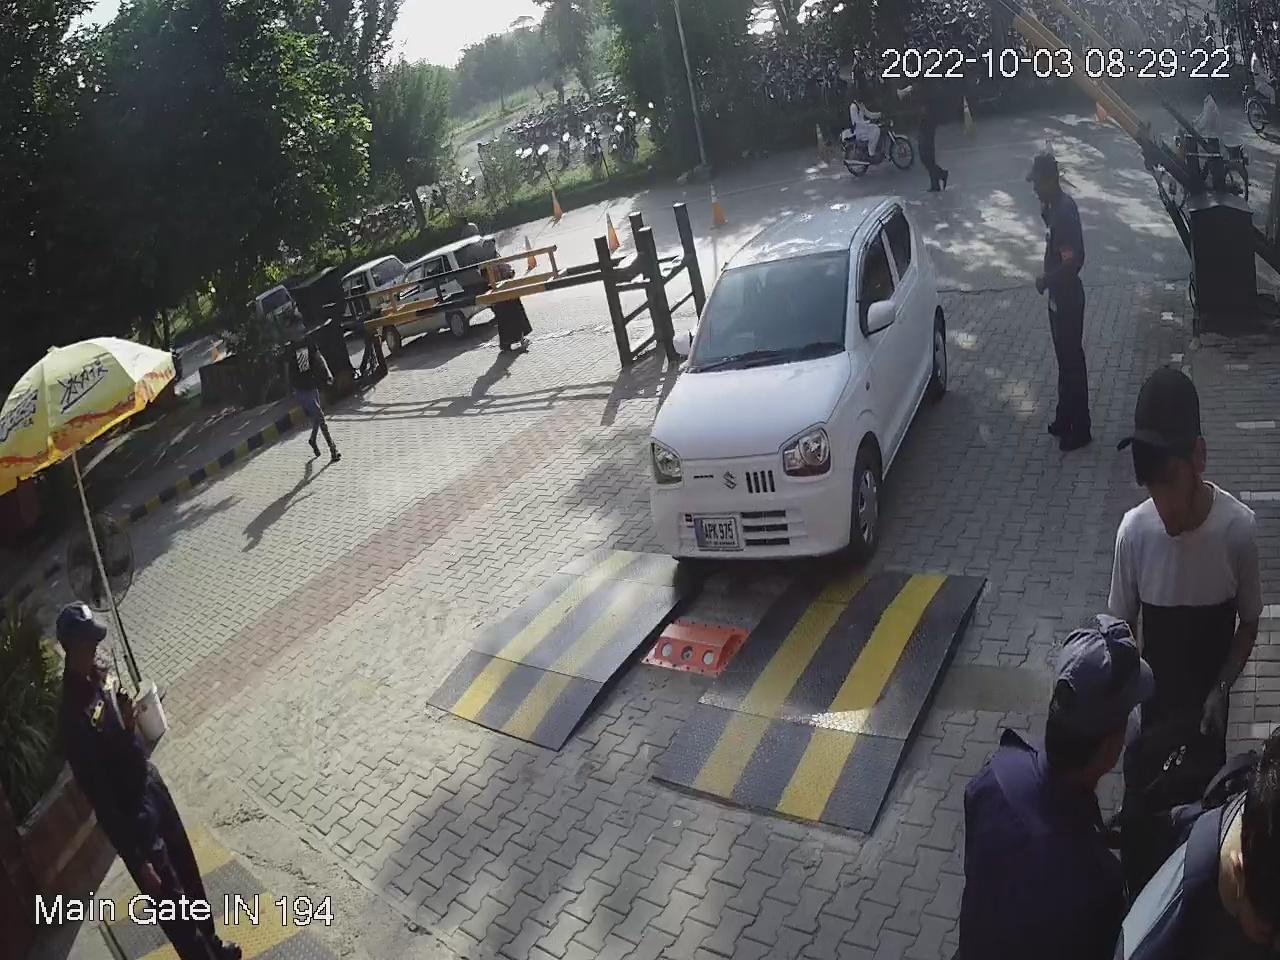windshield: (673, 242, 851, 377)
